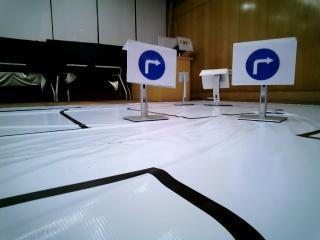right: (232, 43, 298, 86), (129, 41, 175, 81)
